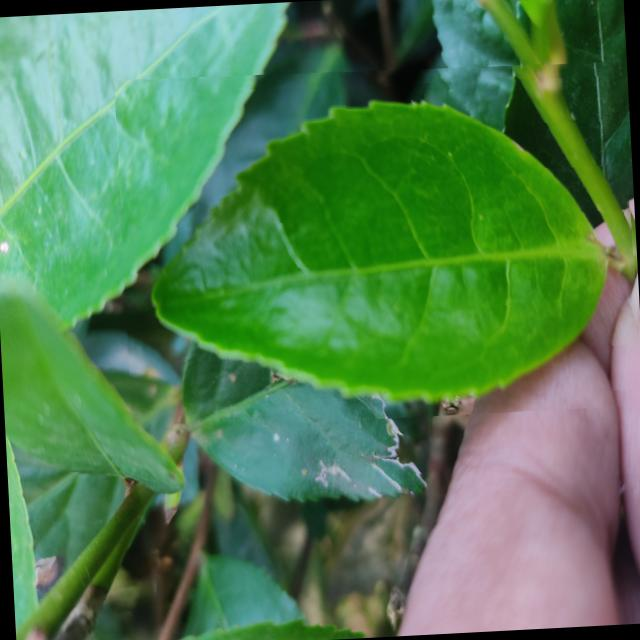Category C 4-7 days: (114, 52, 640, 430)
